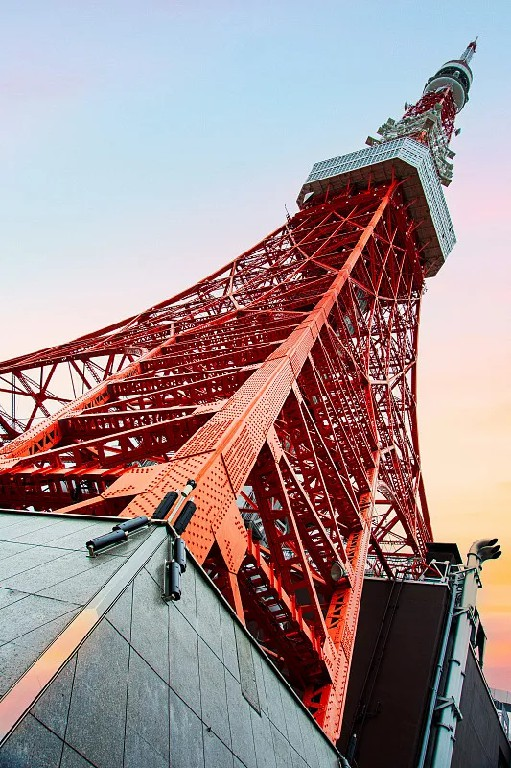Tokyo: (1, 38, 483, 747)
